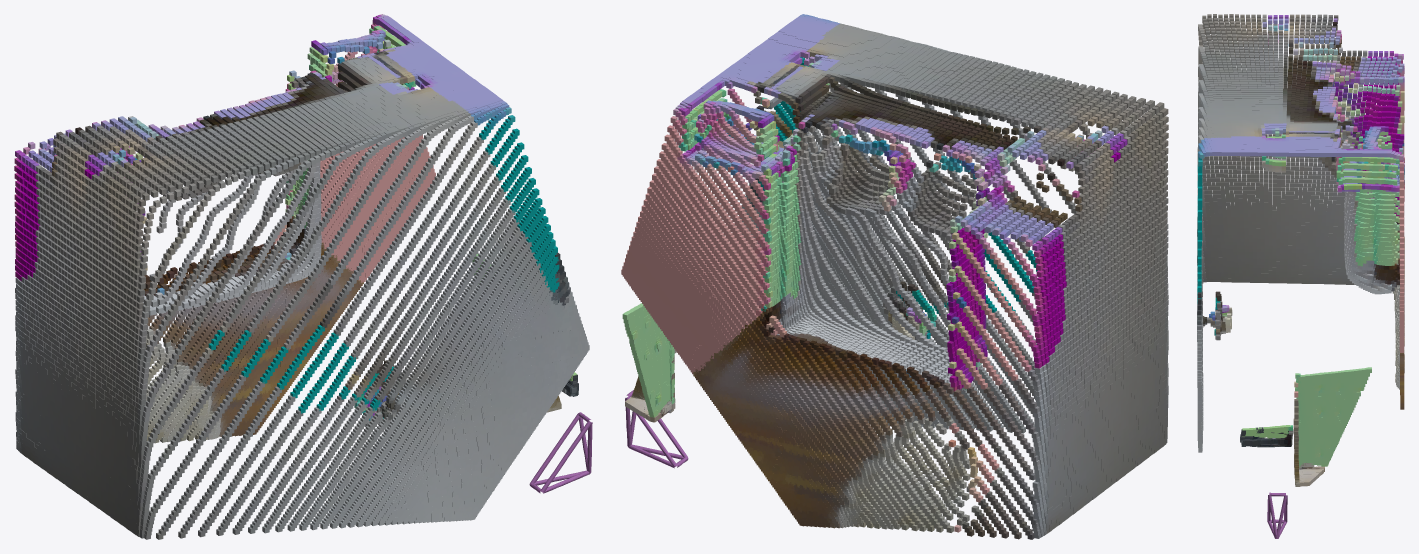
3 views of the same model, side by side, from view 1: azimuth 30°, elevation 25°; view 2: azimuth 150°, elevation 25°; view 3: azimuth 270°, elevation 25° (orthographic). The views are drawn at different scales.
Size of the model in its own units: 5.4 by 4.54 by 2.5.
